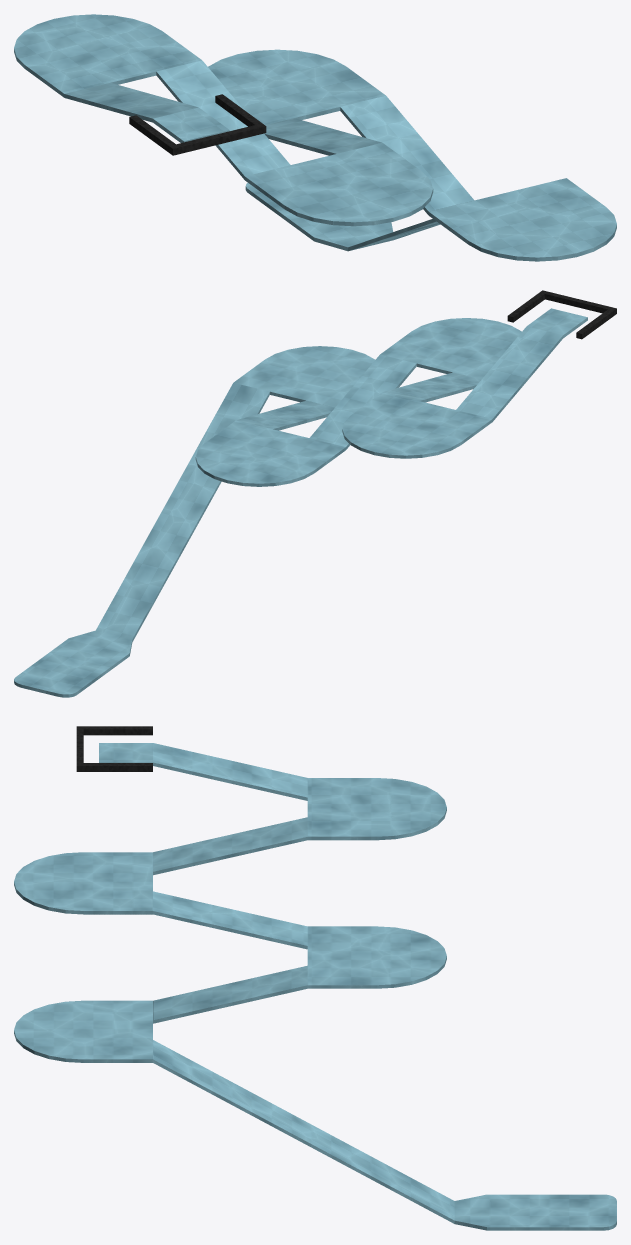
The model's file is track_6.glb.
The picture shows the model from 3 angles, top to bottom: view 1: azimuth 30°, elevation 25°; view 2: azimuth 150°, elevation 25°; view 3: azimuth 270°, elevation 25°; orthographic projection. The views are drawn at different scales.
Parts seen in each view (by area): view 1: track_6, track_6_rails; view 2: track_6, track_6_rails; view 3: track_6, track_6_rails.
Boxes of the visible parts, <box> form: track_6: <box>14,14,616,261</box>; track_6_rails: <box>129,94,266,155</box>; track_6: <box>14,308,587,697</box>; track_6_rails: <box>507,290,616,339</box>; track_6: <box>14,743,616,1230</box>; track_6_rails: <box>76,726,152,771</box>.
Size of the model in its own units: 59.09 by 44.43 by 78.
2 materials, 2 textured.
